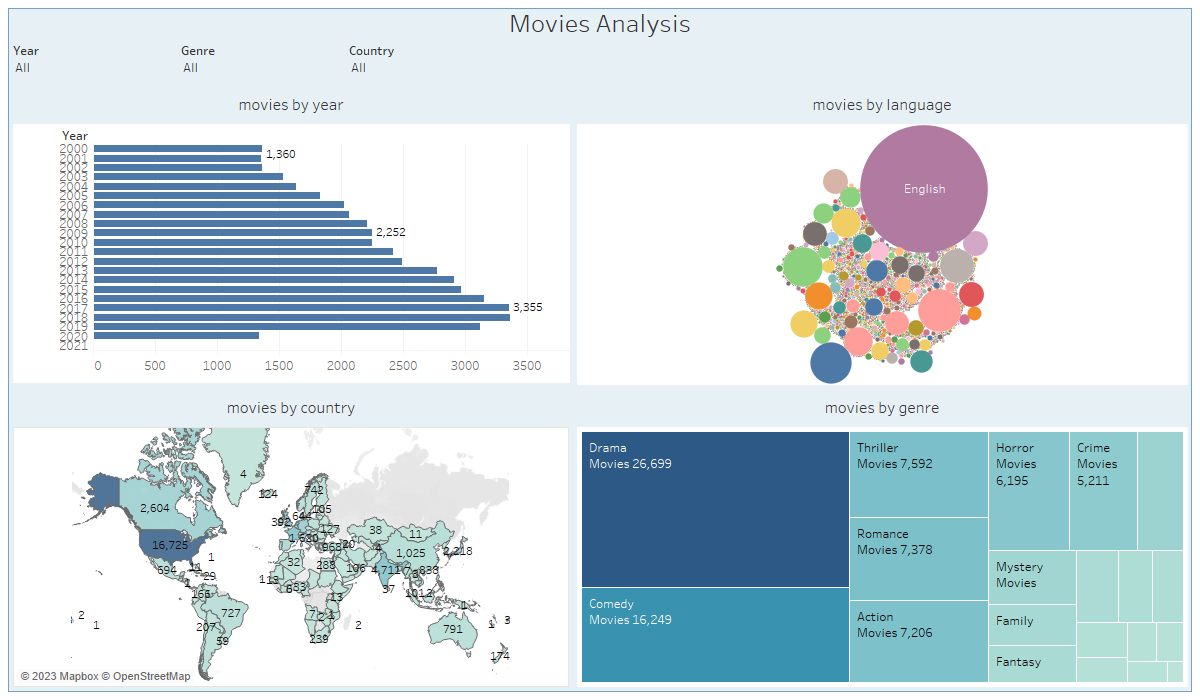

What the dashboard file says about the page in this screenshot:
{"tool":"tableau","page":{"name":"Movies Analysis","canvas":[1200,700],"ordinal":0},"visuals":[{"type":"title","box":[9,9,1182,27.9]},{"type":"filter","title":"movies by year","param":"[federated.0bl1xaj02nx3a711xmbbn02qsxkm].[none:year:ok]","box":[9,36.9,168,47.1]},{"type":"filter","title":"movies by year","param":"[federated.0bl1xaj02nx3a711xmbbn02qsxkm].[none:genre:nk]","box":[177,36.9,168,47.1]},{"type":"filter","title":"movies by year","param":"[federated.0bl1xaj02nx3a711xmbbn02qsxkm].[none:country:nk]","box":[345,36.9,168,47.1]},{"type":"worksheet","title":"movies by year","mark":"Automatic","rows":["year"],"cols":["id"],"box":[9,84,563.7,303.5]},{"type":"worksheet","title":"movies by language","mark":"Circle","box":[572.7,84,618.3,303.5]},{"type":"worksheet","title":"movies by country","mark":"Automatic","box":[9,387.4,563.7,303.6]},{"type":"worksheet","title":"movies by genre","mark":"Automatic","box":[572.7,387.5,618.3,303.5]}]}

Visuals, with their boxes in screenshot pixels (x1, y1, x2, y2), scaled from the page's 1200x700 canvas onto the 1200x700 screenshot:
title: [9,9,1191,37]
"movies by year" filter: [9,37,177,84]
"movies by year" filter: [177,37,345,84]
"movies by year" filter: [345,37,513,84]
"movies by year" worksheet: [9,84,573,388]
"movies by language" worksheet (Circle marks): [573,84,1191,388]
"movies by country" worksheet: [9,387,573,691]
"movies by genre" worksheet: [573,388,1191,691]
